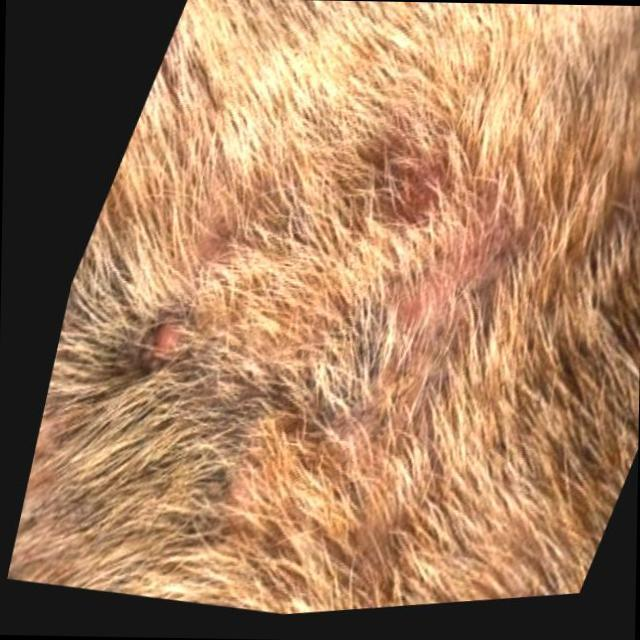allergic dermatitis: (372, 200, 498, 418), (132, 312, 182, 370)
